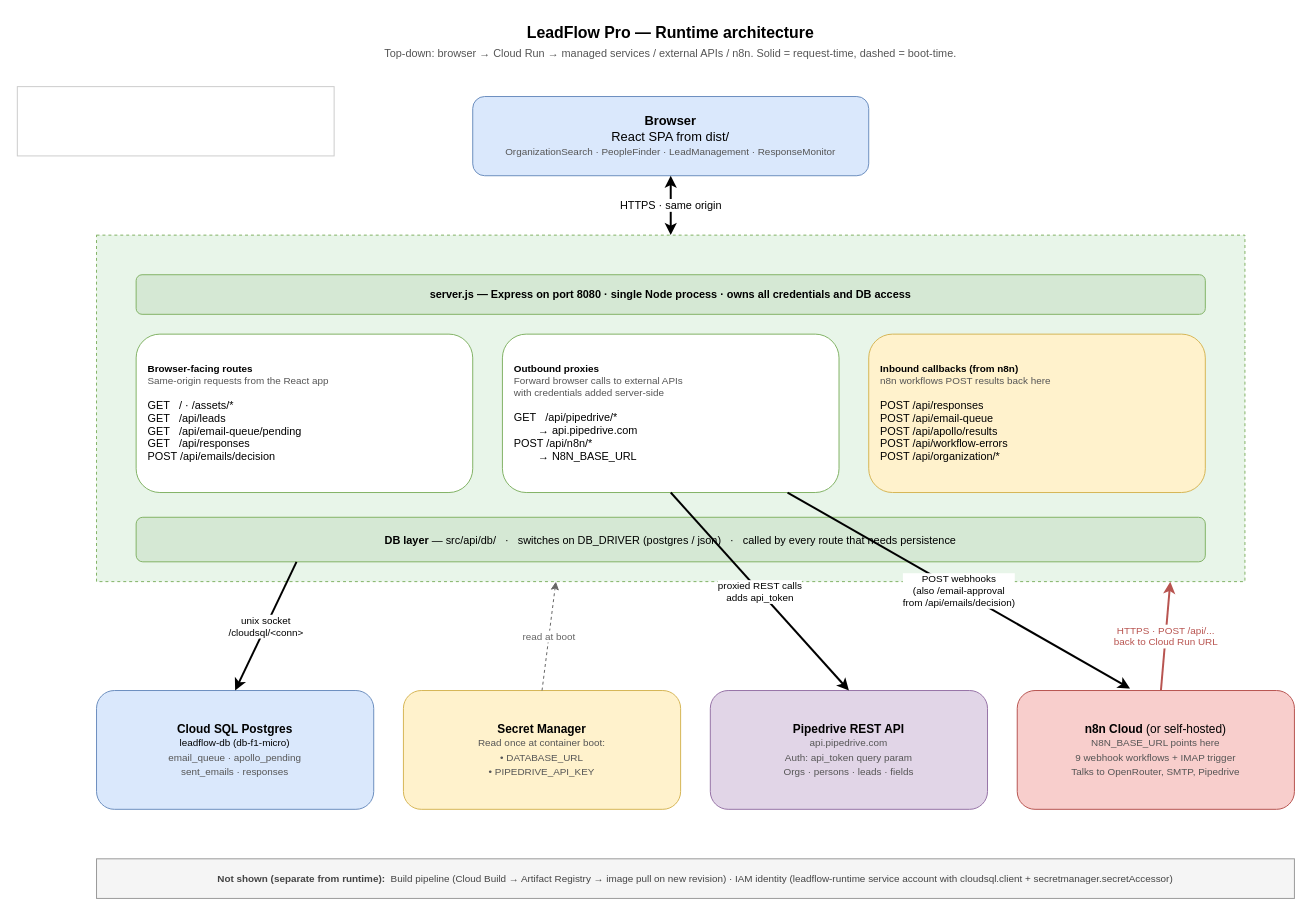
This 1312x916 diagram has some shape labels left out. Each missing label, with the box of its shape:
Cloud Run service: "leadflow" europe-west1 · 1 vCPU / 512 MiB · scale 0–3: (96, 234, 1245, 582)
Legend ■ GCP managed ■ Your app code ■ Config / secrets ■ n8n ■ External API: (16, 86, 334, 156)
